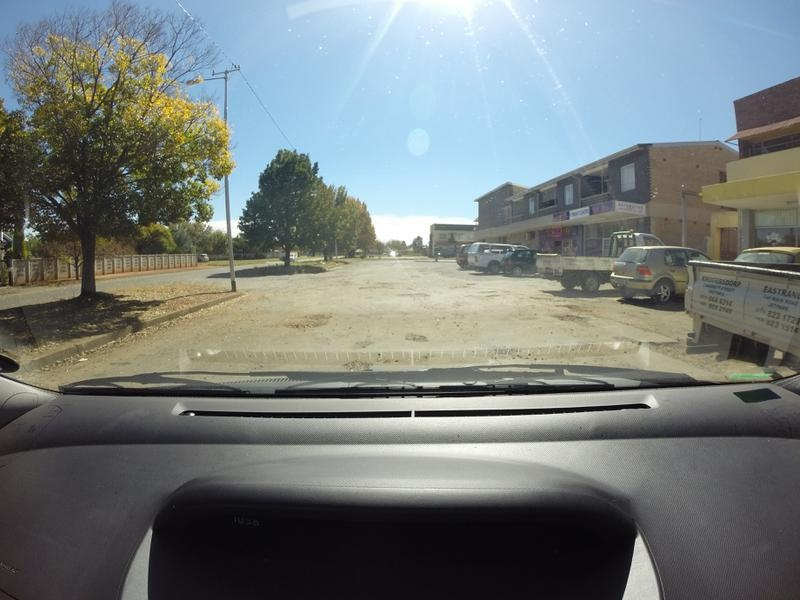pothole: (283, 315, 330, 330), (340, 356, 381, 369), (403, 329, 434, 344)
